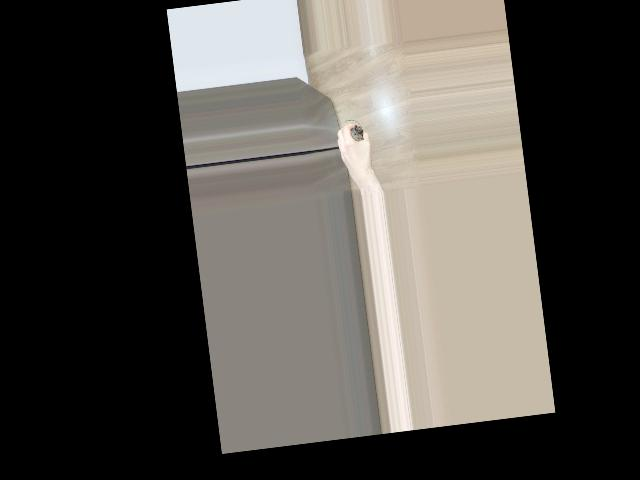beet: (345, 117, 364, 142)
